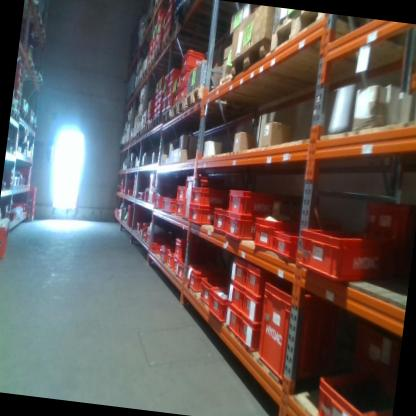pallet: (269, 7, 326, 60), (227, 34, 275, 85), (183, 81, 221, 116), (168, 91, 187, 124), (159, 24, 174, 58), (150, 109, 162, 134), (152, 39, 161, 70), (161, 104, 170, 127), (145, 55, 154, 75), (145, 117, 153, 135), (138, 123, 146, 140)
small_load_carrier: (252, 277, 338, 390), (294, 221, 384, 289), (310, 358, 392, 416), (344, 315, 398, 375), (179, 174, 225, 230), (252, 210, 300, 257), (360, 197, 406, 242), (225, 186, 282, 219), (270, 221, 304, 261), (235, 315, 267, 357), (238, 291, 273, 327), (203, 283, 233, 325), (243, 261, 276, 299), (185, 262, 222, 295), (186, 182, 230, 209), (223, 212, 262, 242), (195, 273, 223, 313), (186, 208, 225, 232), (179, 45, 211, 72), (223, 278, 247, 311), (208, 204, 232, 236), (172, 235, 199, 262), (221, 304, 241, 340), (228, 253, 249, 286), (179, 66, 200, 88), (173, 257, 192, 281), (0, 224, 12, 262), (165, 65, 182, 87), (174, 183, 192, 201), (157, 239, 169, 266), (161, 197, 177, 215), (147, 239, 162, 257), (151, 195, 165, 214), (144, 98, 155, 121), (175, 200, 189, 217), (172, 73, 181, 93), (180, 84, 189, 102), (165, 247, 173, 267), (158, 73, 167, 90), (166, 80, 175, 96), (173, 88, 181, 105), (162, 73, 170, 90), (154, 79, 162, 96), (165, 95, 174, 109), (169, 256, 176, 271), (154, 92, 163, 103), (161, 91, 168, 101), (158, 89, 164, 100), (162, 99, 167, 112), (152, 102, 158, 110), (158, 99, 163, 106), (154, 111, 158, 118), (158, 107, 161, 114)
